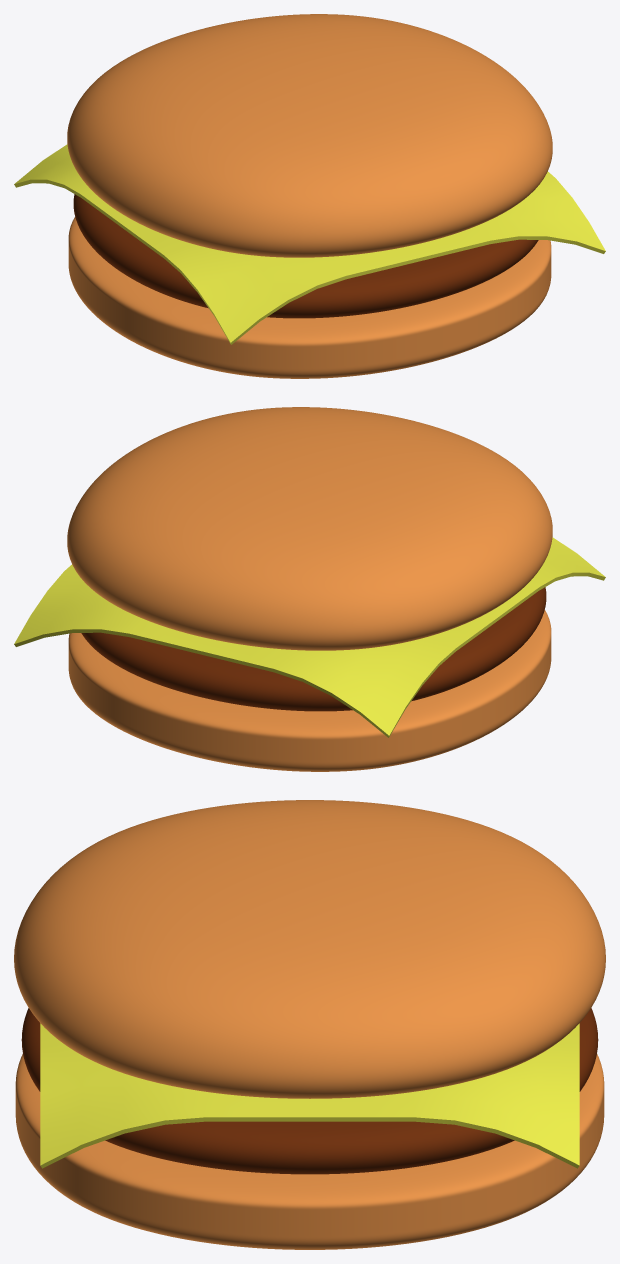
File: hamburger.glb
The picture shows the model from 3 angles, top to bottom: view 1: azimuth 30°, elevation 25°; view 2: azimuth 150°, elevation 25°; view 3: azimuth 270°, elevation 25°; orthographic projection. The views are drawn at different scales.
Parts seen in each view (by area): view 1: 큐브.002, 큐브, 평면, 큐브.001; view 2: 큐브.002, 큐브, 평면, 큐브.001; view 3: 큐브.002, 큐브, 평면, 큐브.001.
Boxes of the visible parts, x1,y1,x2,y2 form: 큐브.002: (67, 14, 552, 257); 큐브: (68, 217, 551, 378); 평면: (14, 144, 605, 344); 큐브.001: (73, 194, 538, 318); 큐브.002: (67, 407, 552, 650); 큐브: (68, 610, 551, 771); 평면: (14, 537, 605, 737); 큐브.001: (81, 587, 546, 711); 큐브.002: (14, 800, 605, 1098); 큐브: (15, 1054, 604, 1249); 평면: (40, 1023, 579, 1168); 큐브.001: (21, 1008, 598, 1174).
Bounding box in the file's own units: 8.93 × 4.6 × 8.93.
